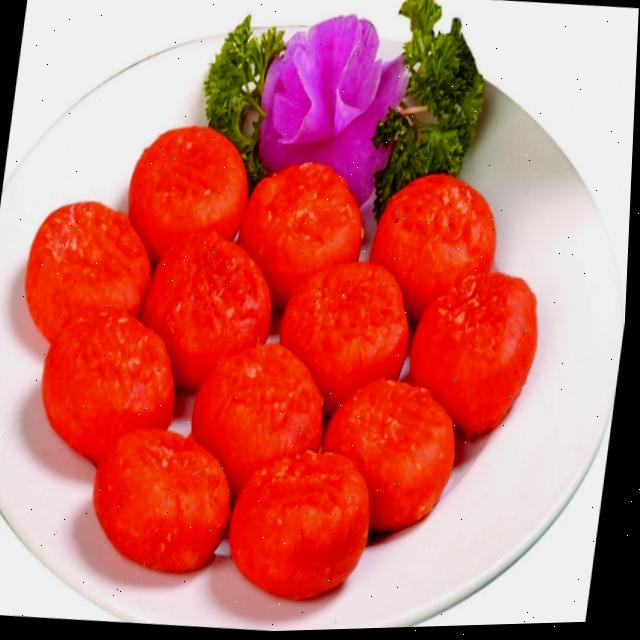炸货点心: (0, 86, 585, 624)
蛋糕甜品: (0, 86, 585, 624)
